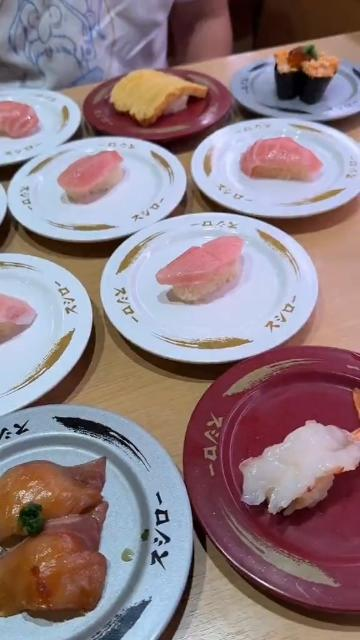janwhite: (84, 406, 192, 640), (109, 241, 321, 347), (197, 130, 360, 221), (14, 155, 195, 222), (4, 247, 89, 387), (239, 40, 360, 122), (0, 405, 109, 465), (0, 82, 86, 153)
